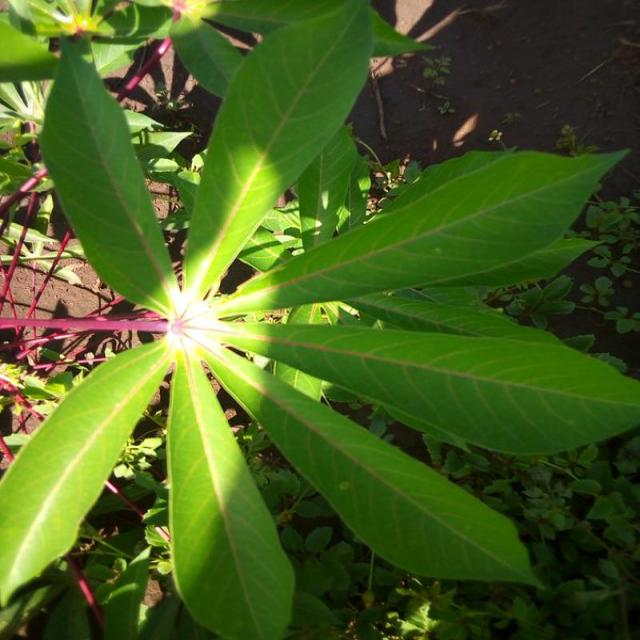cassava leaf: (0, 1, 638, 637), (214, 143, 630, 316), (182, 0, 374, 299), (0, 336, 171, 608), (39, 32, 178, 319), (165, 345, 295, 638)
